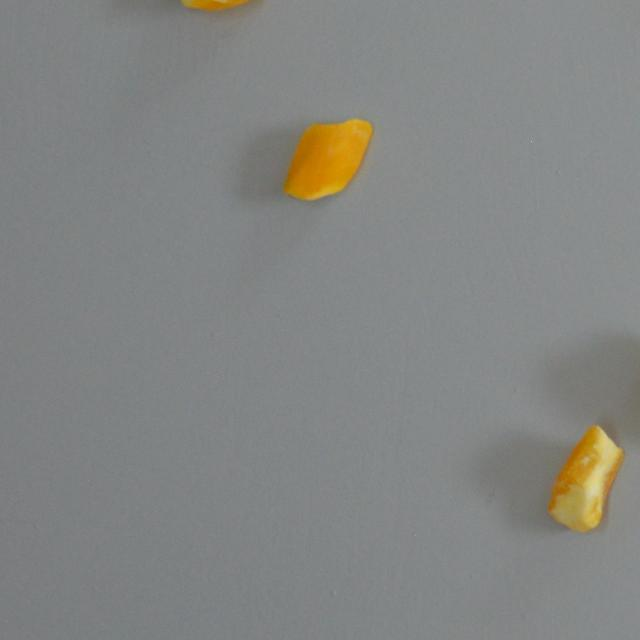estandar: (282, 116, 372, 202)
pelicula: (546, 422, 624, 533), (178, 0, 282, 8)
